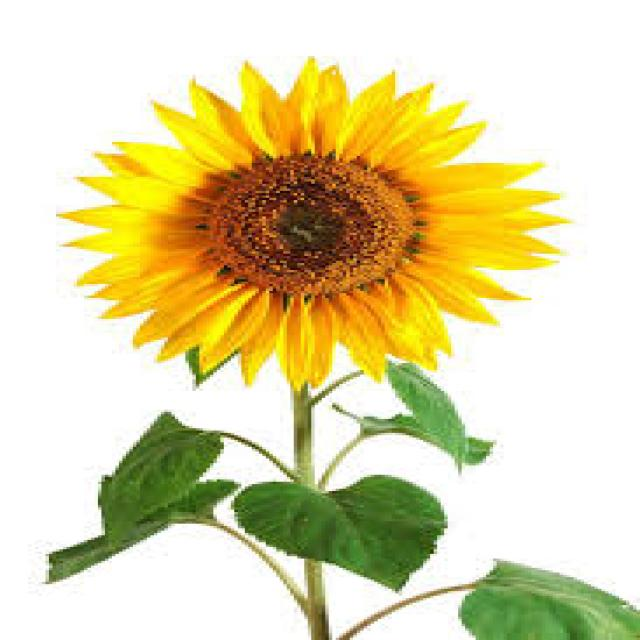sunflower: (0, 40, 595, 402)
